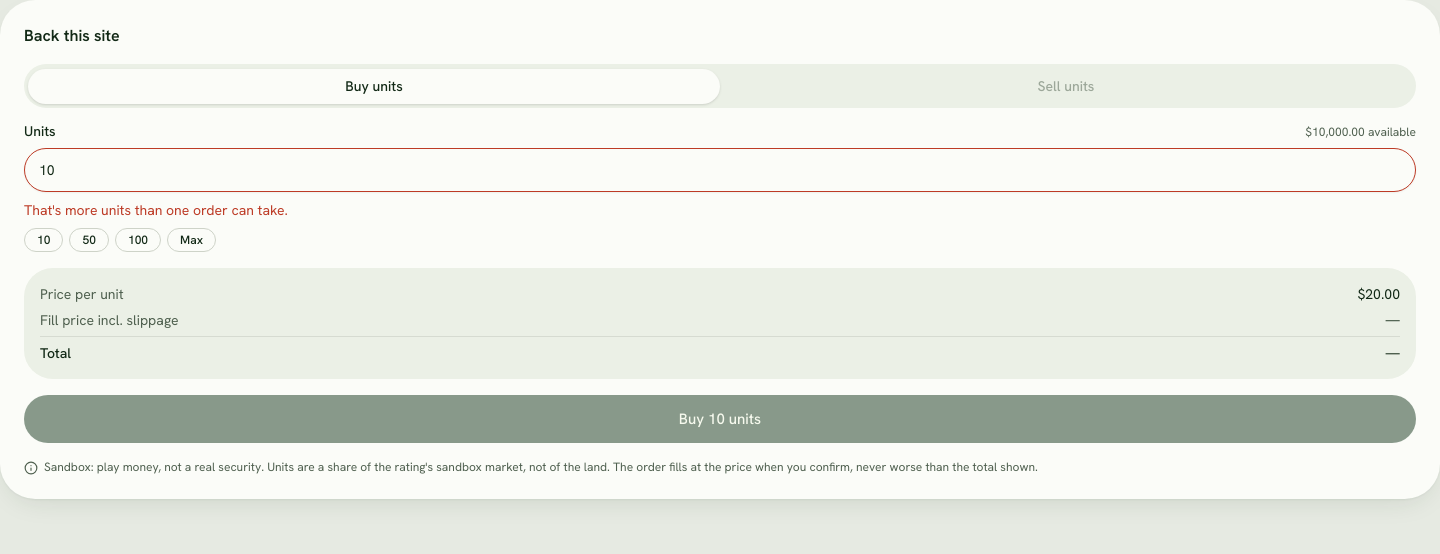
Scenario: TradePanel › asks a 1-unit quote how much would go through when the size is refused
Replace the text in the field labelled "Units" with "999999999" at (720, 170), box x1=24 y1=148 x2=1416 y2=192
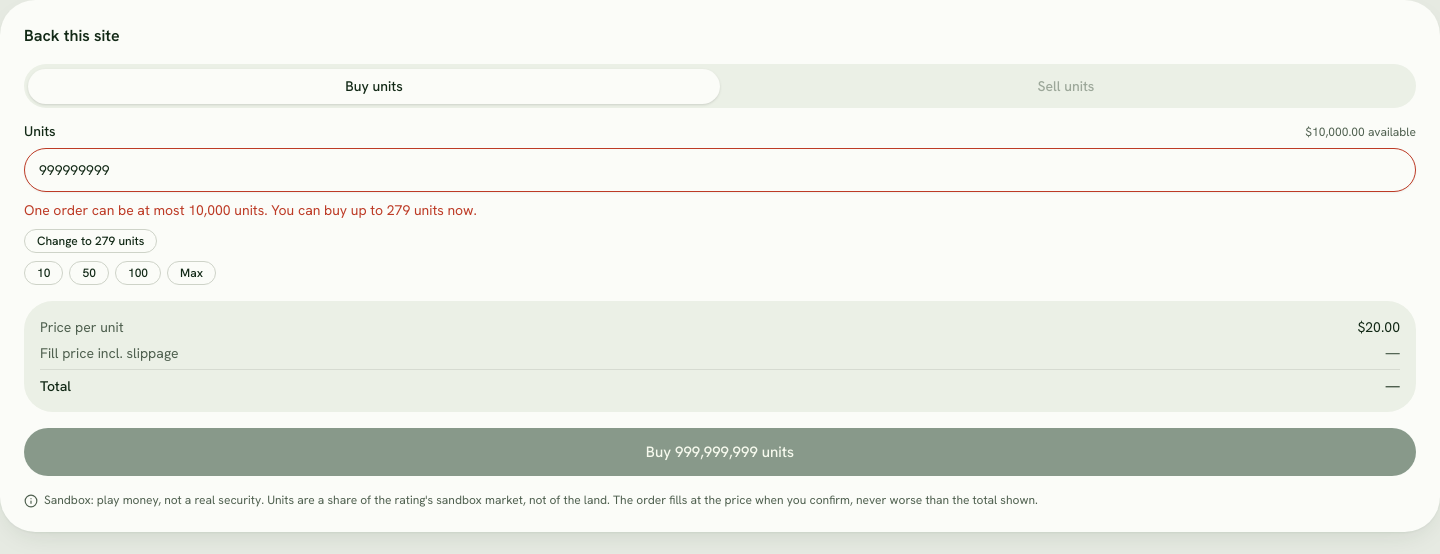
Click the button "Change to 279 units".
click(91, 241)  # box x1=24 y1=229 x2=157 y2=253
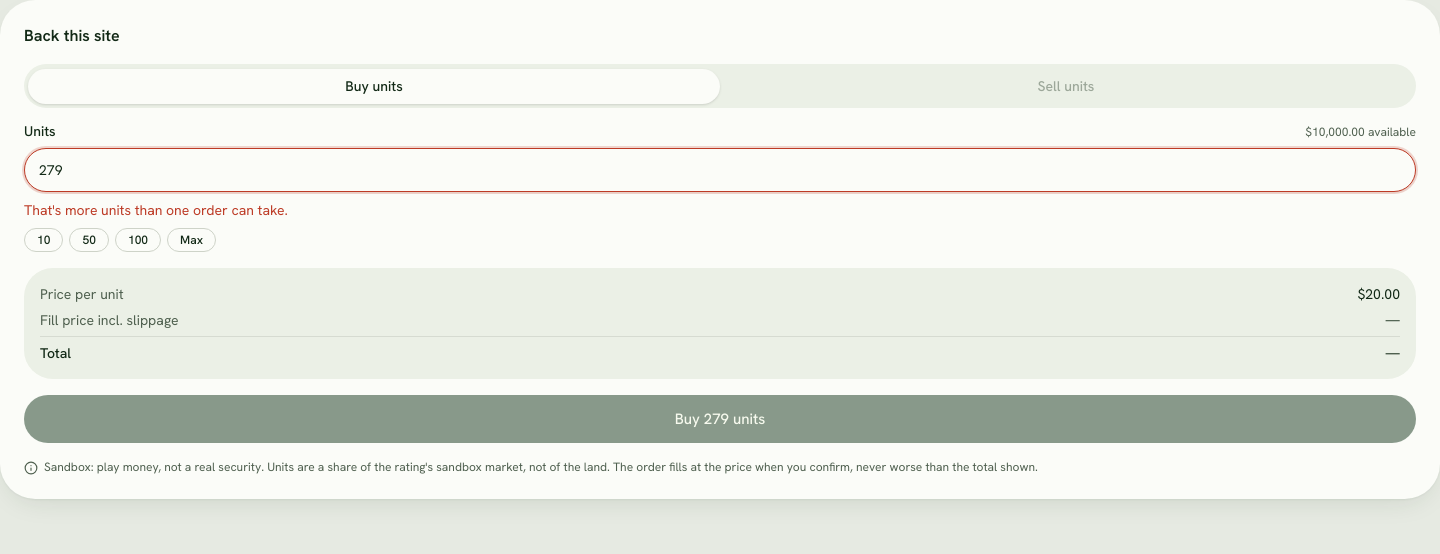
Expected: the field labelled "Units" holds "279", x1=24 y1=148 x2=1416 y2=192
